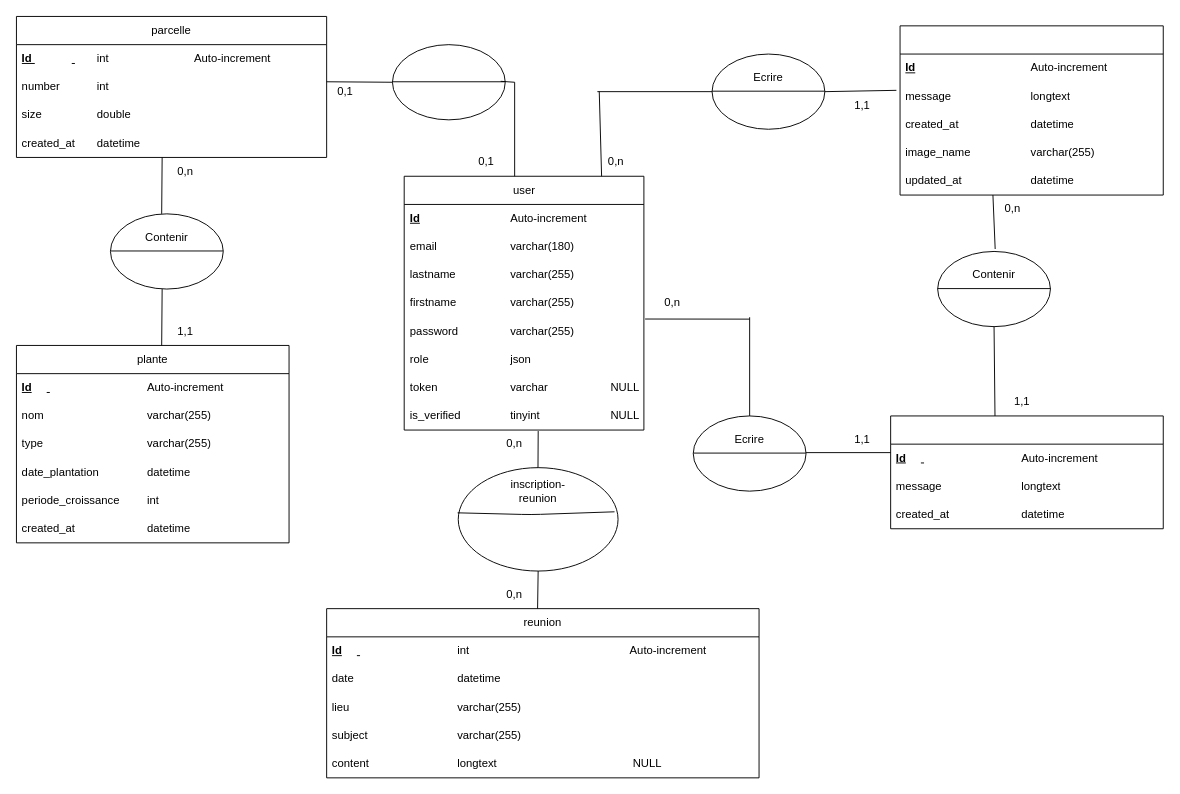
Image size: 1180x794. Some labels were removed from this diagram. Here are the shapes that lost their labels. From the top down, the box of each, then its label:
(392, 44, 505, 120): Posseder
(899, 25, 1163, 195): post
(890, 415, 1163, 529): comment
(457, 467, 618, 571): created_at datetime (created_at = date inscription)
